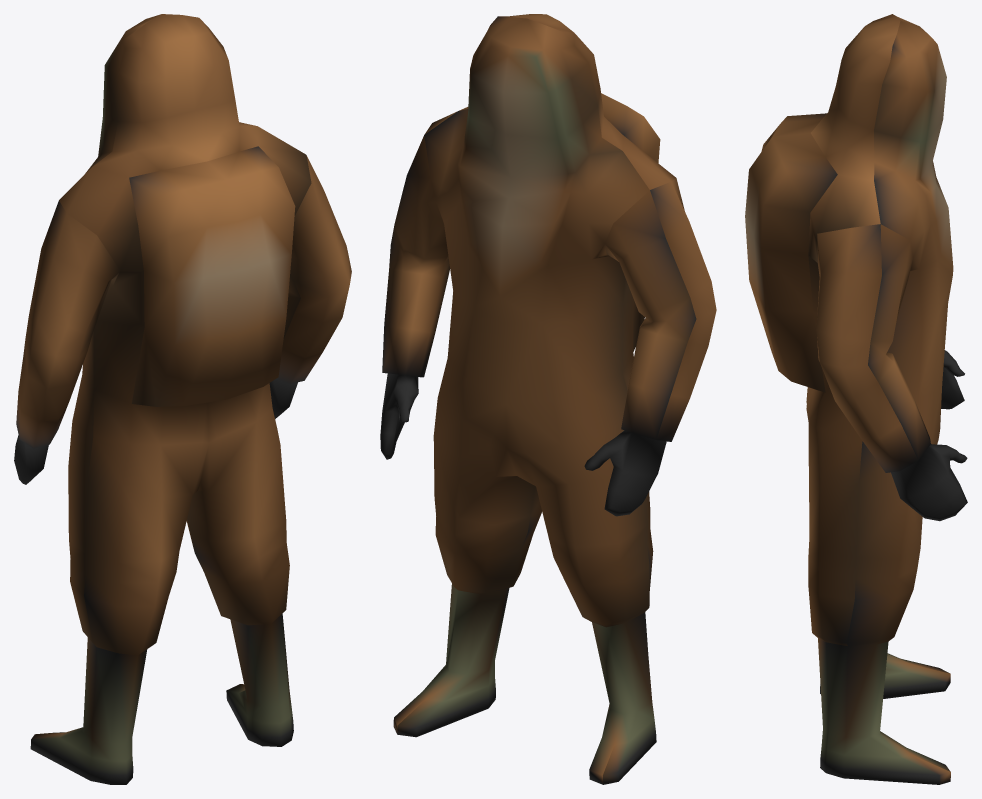
The model's file is hazmat.glb.
3 views of the same model, side by side, from view 1: azimuth 30°, elevation 25°; view 2: azimuth 150°, elevation 25°; view 3: azimuth 270°, elevation 25° (orthographic).
Parts seen in each view (by area): view 1: body; view 2: body; view 3: body.
Part boxes in pixels (<box>): body: <box>14,14,351,784</box>; body: <box>380,14,716,784</box>; body: <box>745,14,967,784</box>.
Bounding box in the file's own units: 0.8319 × 1.8 × 0.5114.
